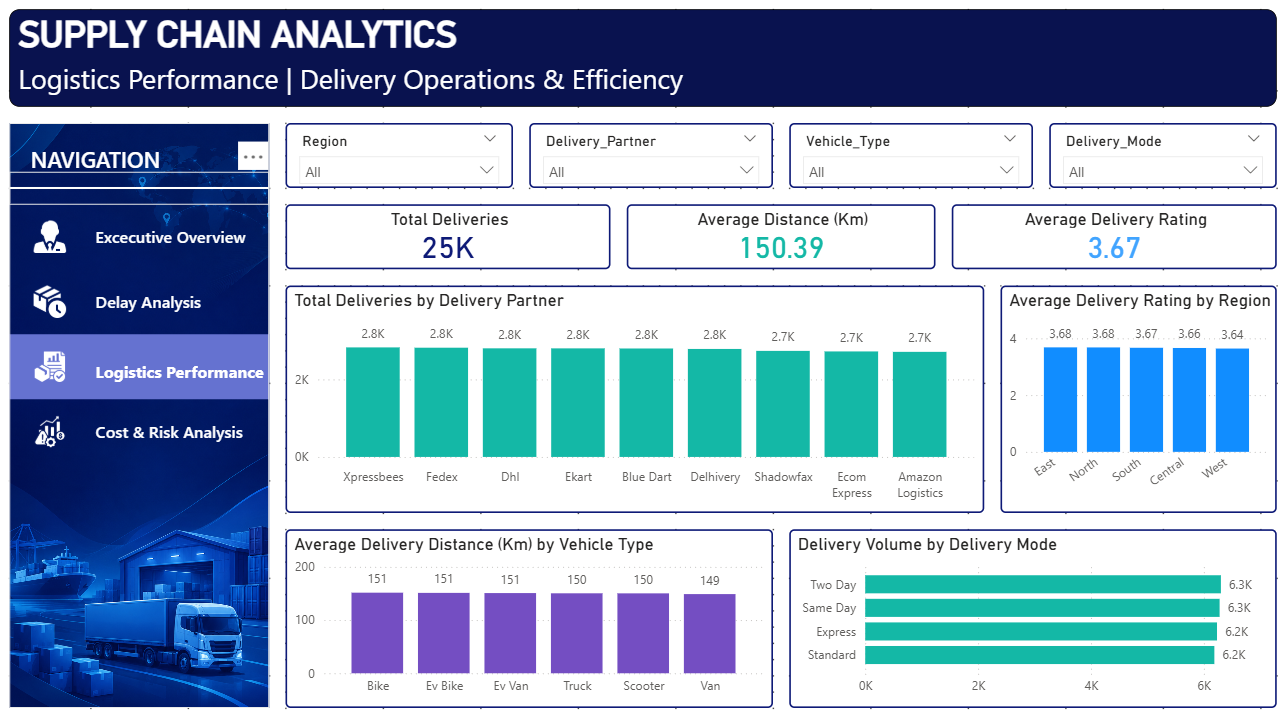

This screenshot's page, from the dashboard's own definition file:
{"tool":"powerbi","page":{"name":"03. Logistics Performance","canvas":[1280,720],"ordinal":2},"visuals":[{"type":"textbox","title":"SUPPLY CHAIN ANALYTICS","box":[16,16,1248,96],"z":0},{"type":"actionButton","title":"Button Excecutive","box":[16,208,256,48],"z":0,"group":"g2"},{"type":"actionButton","title":"Button Delay","box":[16,272,256,48],"z":0,"group":"g3"},{"type":"actionButton","title":"Button Logistics","box":[16,336,256,64],"z":0,"group":"g4"},{"type":"actionButton","title":"Button Cost & Risk","box":[16,400,256,48],"z":0,"group":"g5"},{"type":"slicer","fields":{"Values":["Cleaned_Delivery_Data.Region"]},"box":[288,128,224,64],"z":1000},{"type":"image","box":[32,224,48,32],"z":1000,"group":"g2"},{"type":"image","box":[32,288,48,32],"z":1000,"group":"g3"},{"type":"image","box":[32,352,48,32],"z":1000,"group":"g4"},{"type":"image","box":[32,416,48,32],"z":1000,"group":"g5"},{"type":"slicer","fields":{"Values":["Cleaned_Delivery_Data.Delivery_Partner"]},"box":[528,128,240,64],"z":2000},{"type":"textbox","box":[96,224,176,32],"z":2000,"group":"g2"},{"type":"textbox","box":[96,288,176,32],"z":2000,"group":"g3"},{"type":"textbox","box":[96,357.3,176,42.7],"z":2000,"group":"g4"},{"type":"textbox","box":[96,416,176,32],"z":2000,"group":"g5"},{"type":"slicer","fields":{"Values":["Cleaned_Delivery_Data.Vehicle_Type"]},"box":[784,128,240,64],"z":3000},{"type":"slicer","fields":{"Values":["Cleaned_Delivery_Data.Delivery_Mode"]},"box":[1040,128,224,64],"z":4000},{"type":"card","title":"Total Deliveries","fields":{"Values":["Measure.Total_Deliveries"]},"box":[288,208,320,64],"z":5000},{"type":"card","title":"Average Distance (Km)","fields":{"Values":["Measure.Average_Distance"]},"box":[624,208,304,64],"z":6000},{"type":"card","title":"Average Delivery Rating","fields":{"Values":["Measure.Average_Rating"]},"box":[944,208,320,64],"z":7000},{"type":"clusteredColumnChart","title":"Total Deliveries by Delivery Partner","fields":{"Category":["Cleaned_Delivery_Data.Delivery_Partner"],"Y":["Measure.Total_Deliveries"]},"box":[288,288,688,224],"z":8000},{"type":"clusteredColumnChart","title":"Average Delivery Distance (Km) by Vehicle Type","fields":{"Category":["Cleaned_Delivery_Data.Vehicle_Type"],"Y":["Measure.Average_Distance"]},"box":[288,528,480,176],"z":9000},{"type":"clusteredBarChart","title":"Delivery Volume by Delivery Mode","fields":{"Category":["Cleaned_Delivery_Data.Delivery_Mode"],"Y":["Measure.Total_Deliveries"]},"box":[784,528,480,176],"z":10000},{"type":"clusteredColumnChart","title":"Average Delivery Rating by Region","fields":{"Category":["Cleaned_Delivery_Data.Region"],"Y":["Measure.Average_Rating"]},"box":[992,288,272,224],"z":11000},{"type":"group","id":"g1","title":"Navigation Bar","box":[16,128,256,576],"z":12000},{"type":"image","box":[16,128,256,576],"z":16000,"group":"g1"},{"type":"textbox","box":[32,144,144,48],"z":17000,"group":"g1"},{"type":"shape","box":[16,176,256,32],"z":18000,"group":"g1"},{"type":"group","id":"g2","title":"Excecutive Group","box":[16,208,256,48],"z":19000,"group":"g1"},{"type":"group","id":"g3","title":"Delay Group","box":[16,272,256,48],"z":20000,"group":"g1"},{"type":"group","id":"g4","title":"Logistics Group","box":[16,336,256,64],"z":21000,"group":"g1"},{"type":"group","id":"g5","title":"Cost & Risk Group","box":[16,400,256,48],"z":22000,"group":"g1"}]}

Visuals, with their boxes in screenshot pixels (x1, y1, x2, y2), scaled from the page's 1280x720 canvas onto the 1286x717 screenshot:
"SUPPLY CHAIN ANALYTICS" textbox: Rect(16, 16, 1270, 112)
"Button Excecutive" actionButton: Rect(16, 207, 273, 255)
"Button Delay" actionButton: Rect(16, 271, 273, 319)
"Button Logistics" actionButton: Rect(16, 335, 273, 398)
"Button Cost & Risk" actionButton: Rect(16, 398, 273, 446)
slicer - Cleaned_Delivery_Data.Region: Rect(289, 127, 514, 191)
image: Rect(32, 223, 80, 255)
image: Rect(32, 287, 80, 319)
image: Rect(32, 351, 80, 382)
image: Rect(32, 414, 80, 446)
slicer - Cleaned_Delivery_Data.Delivery_Partner: Rect(530, 127, 772, 191)
textbox: Rect(96, 223, 273, 255)
textbox: Rect(96, 287, 273, 319)
textbox: Rect(96, 356, 273, 398)
textbox: Rect(96, 414, 273, 446)
slicer - Cleaned_Delivery_Data.Vehicle_Type: Rect(788, 127, 1029, 191)
slicer - Cleaned_Delivery_Data.Delivery_Mode: Rect(1045, 127, 1270, 191)
"Total Deliveries" card: Rect(289, 207, 611, 271)
"Average Distance (Km)" card: Rect(627, 207, 932, 271)
"Average Delivery Rating" card: Rect(948, 207, 1270, 271)
"Total Deliveries by Delivery Partner" clusteredColumnChart: Rect(289, 287, 981, 510)
"Average Delivery Distance (Km) by Vehicle Type" clusteredColumnChart: Rect(289, 526, 772, 701)
"Delivery Volume by Delivery Mode" clusteredBarChart: Rect(788, 526, 1270, 701)
"Average Delivery Rating by Region" clusteredColumnChart: Rect(997, 287, 1270, 510)
"Navigation Bar" group: Rect(16, 127, 273, 701)
image: Rect(16, 127, 273, 701)
textbox: Rect(32, 143, 177, 191)
shape: Rect(16, 175, 273, 207)
"Excecutive Group" group: Rect(16, 207, 273, 255)
"Delay Group" group: Rect(16, 271, 273, 319)
"Logistics Group" group: Rect(16, 335, 273, 398)
"Cost & Risk Group" group: Rect(16, 398, 273, 446)
